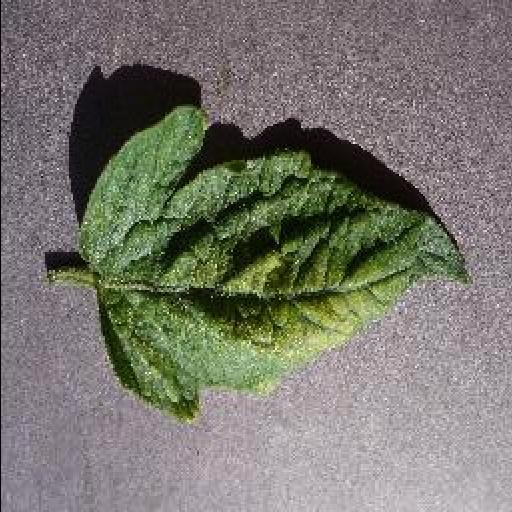disease_tomato: (74, 106, 470, 424)
